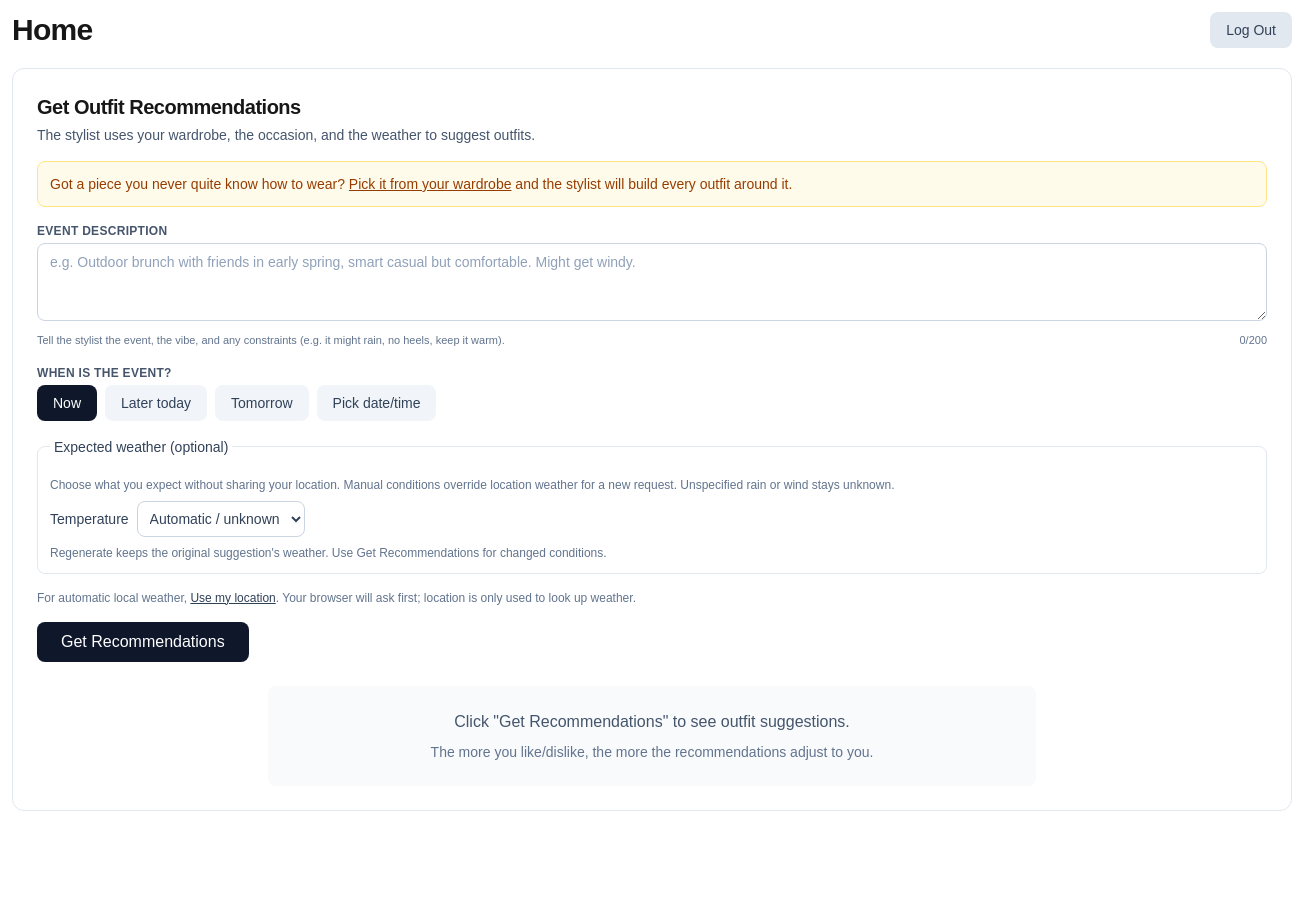
Test case: dashboard — a dropped connection does not promise what it cannot keep › says 'if that outfit finished', never 'you won't lose your place'
The image size is (1304, 912).
Type "class on campus" into the text box with placeholder "Outdoor brunch with friends". click: (652, 282)
box: x1=37 y1=243 x2=1267 y2=321
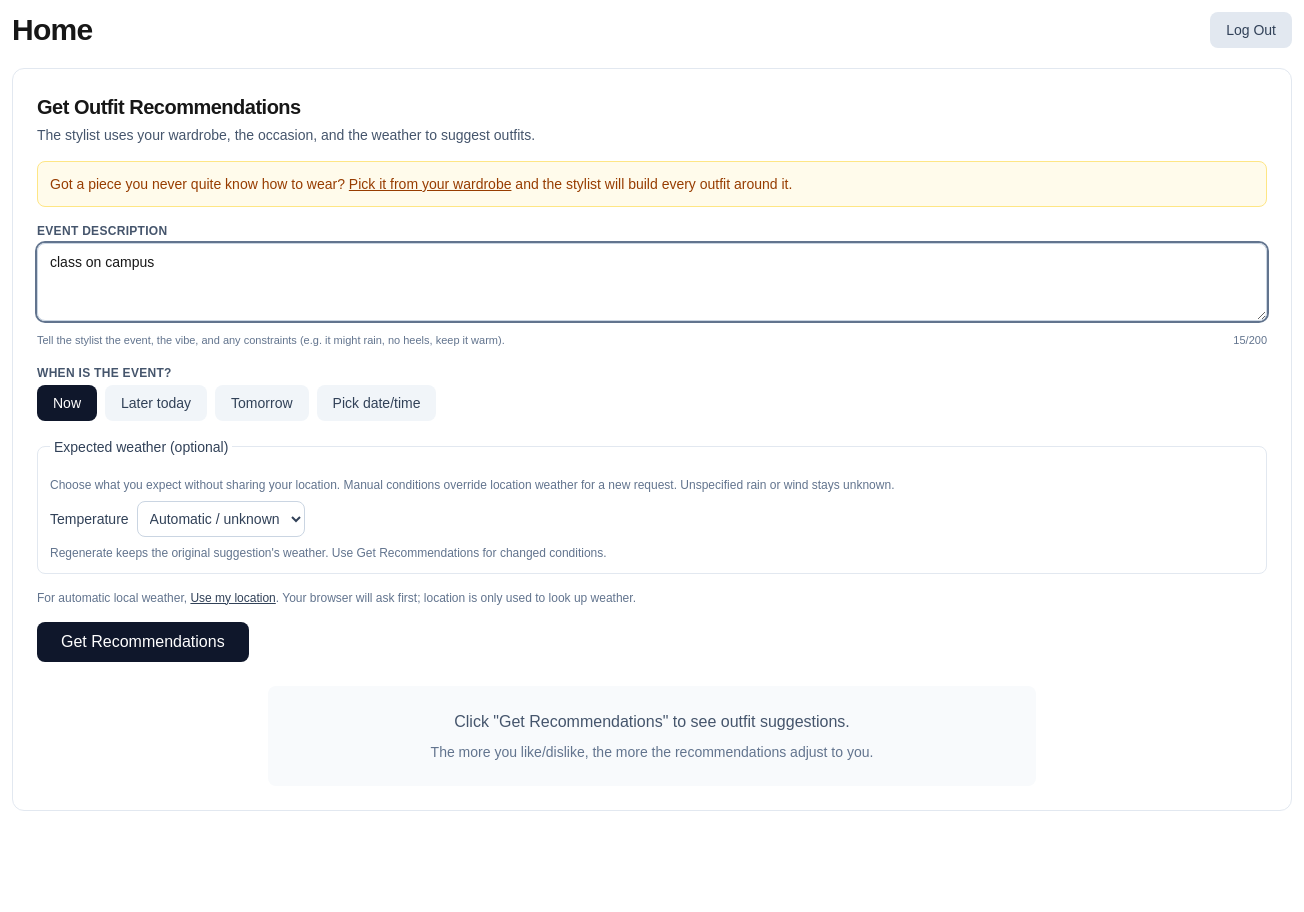
Click the button "Get Recommendations". click: (143, 642)
box: x1=37 y1=622 x2=249 y2=662
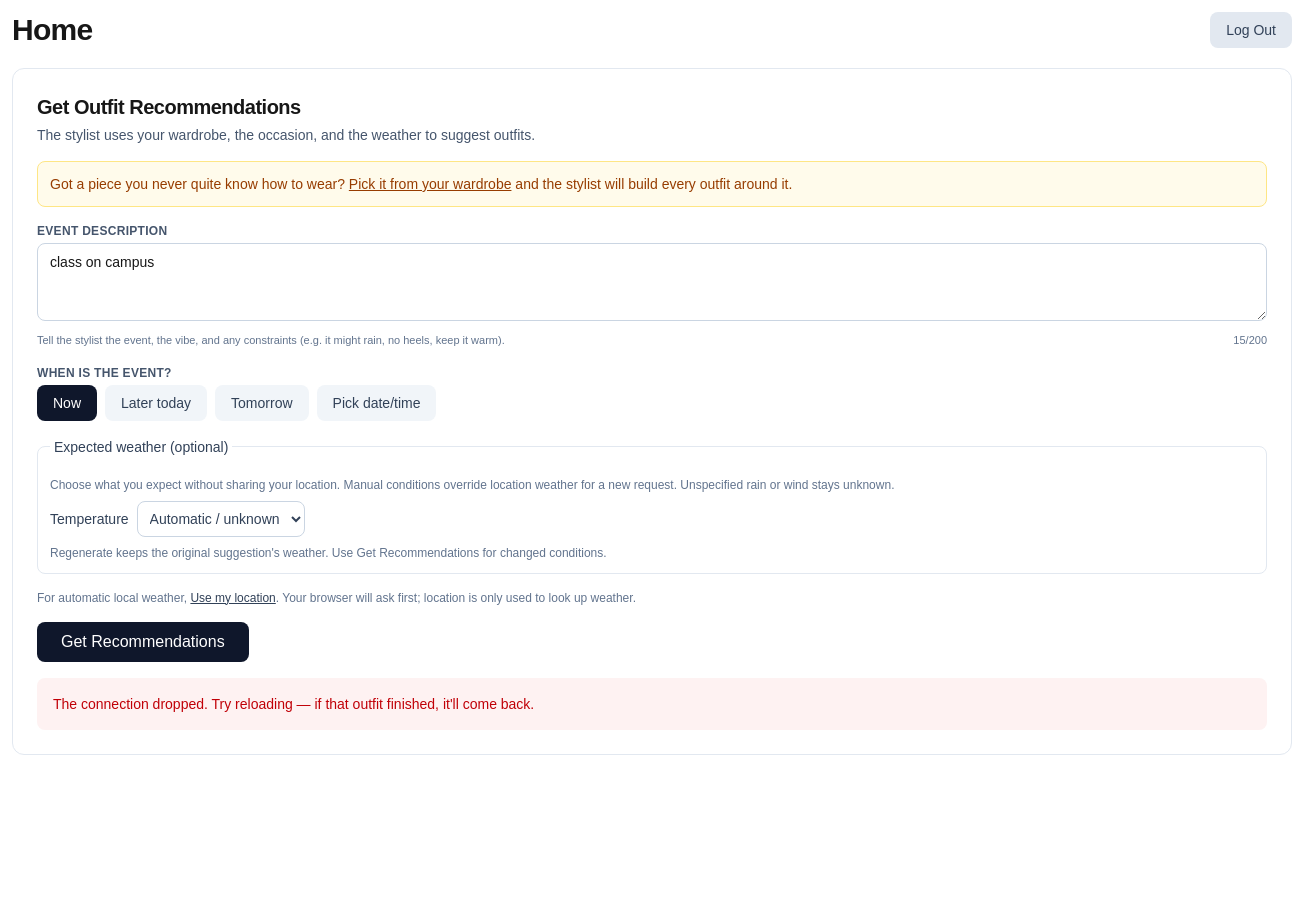
Expected: the text "connection dropped" shows "if that outfit finished", x1=53 y1=696 x2=534 y2=712
